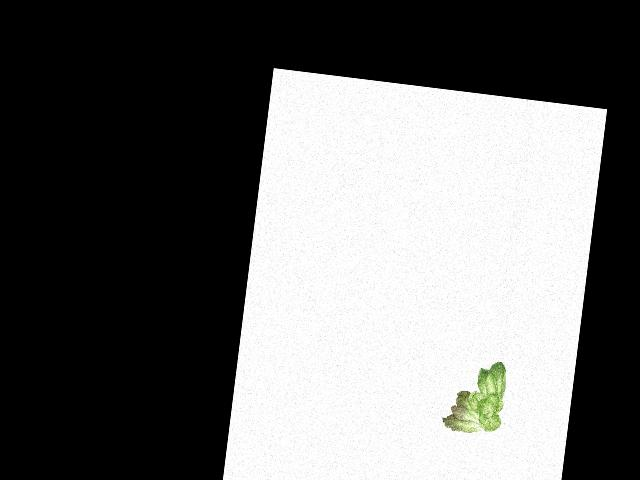lettuce: (437, 354, 512, 438)
